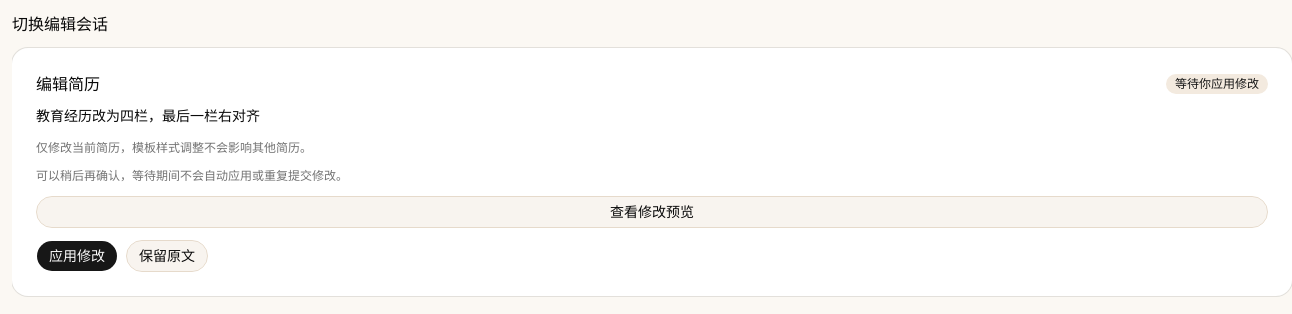
Test: editor request decisions › rejects without writing and never executes historical solo requests
Click the button "保留原文" at (167, 256), box [126,240,208,272]
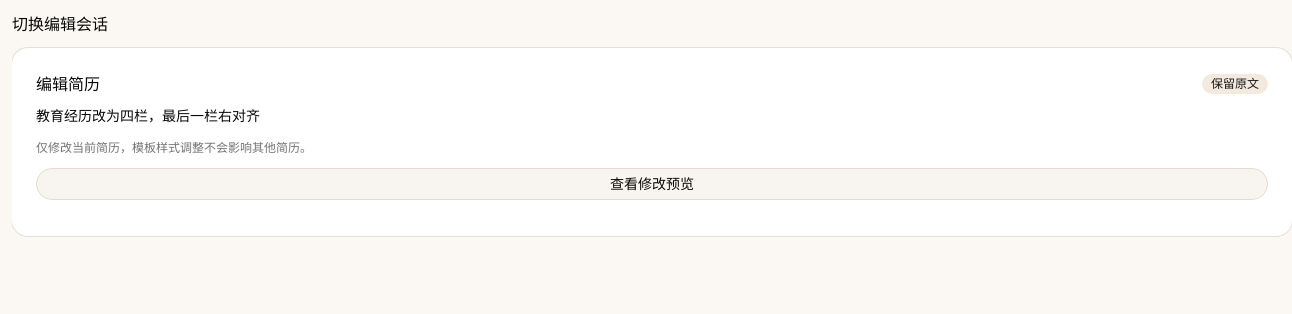
Expected: the text "保留原文" is shown, [1202,74,1268,94]
